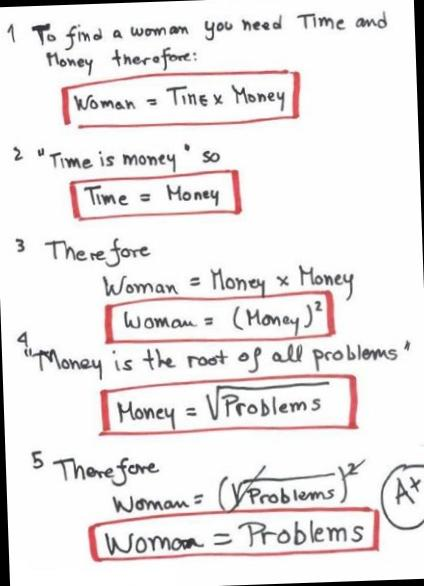text: (22, 333, 415, 387), (1, 8, 391, 56), (106, 457, 370, 519), (102, 261, 357, 310), (114, 380, 334, 434), (102, 516, 368, 558), (70, 79, 288, 121), (120, 299, 327, 343), (8, 136, 224, 178), (27, 445, 163, 491), (14, 231, 155, 272), (43, 44, 200, 78), (81, 179, 222, 214), (386, 474, 423, 510), (16, 330, 34, 349)
